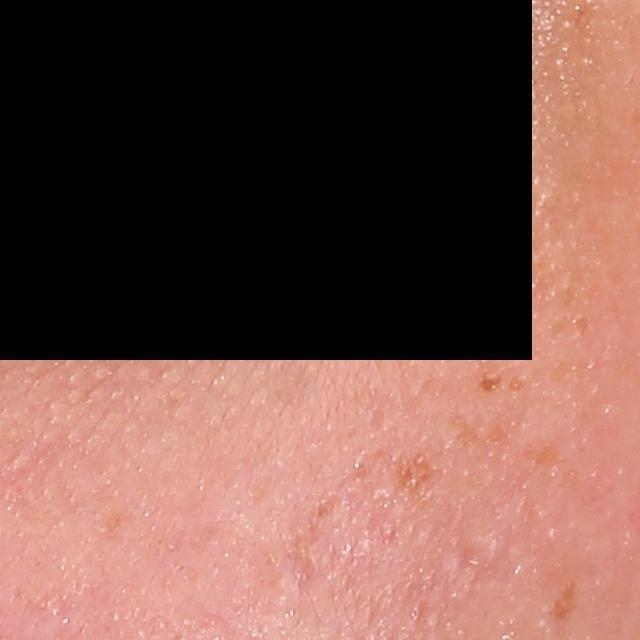atrophic_scar: (452, 534, 509, 586)
melasma: (292, 443, 445, 557), (447, 410, 513, 449), (542, 575, 586, 621), (520, 431, 567, 473), (477, 372, 505, 395), (572, 314, 591, 338)
